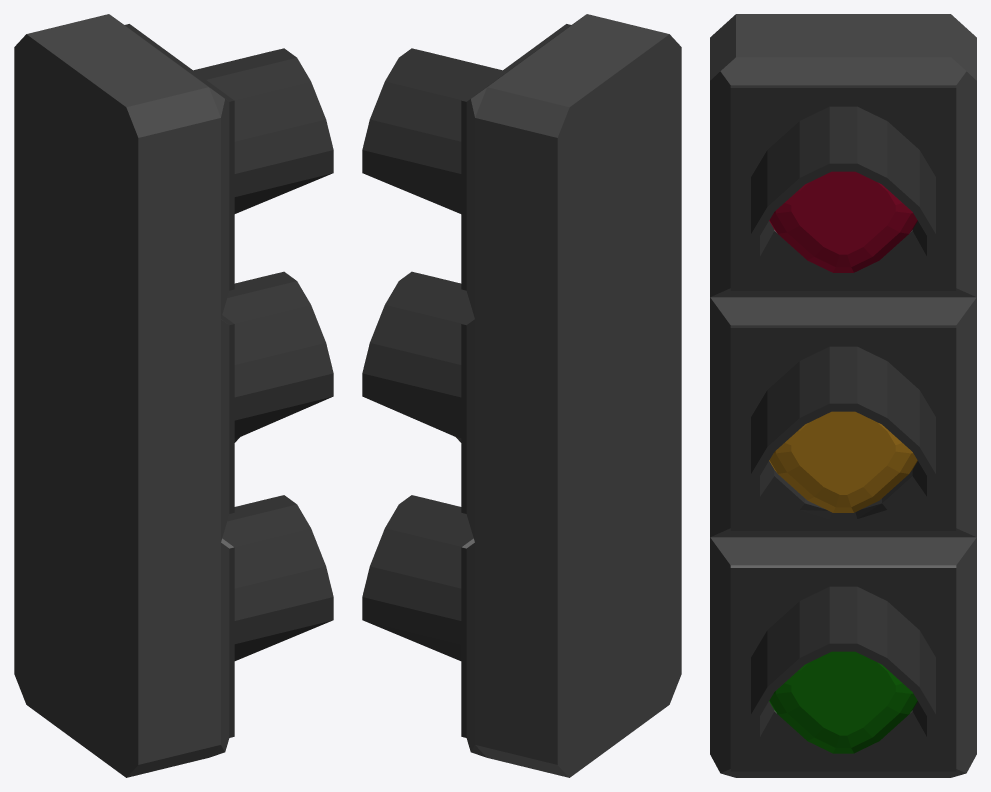
The model's file is traffic lights.fbx.
3 renders of one model, left to right at view 1: azimuth 30°, elevation 25°; view 2: azimuth 150°, elevation 25°; view 3: azimuth 270°, elevation 25°, orthographic. The views are drawn at different scales.
Visible parts, largest first — view 1: pCube1; view 2: pCube1; view 3: pCube1.
Part boxes in pixels (bbox=[...]): pCube1: bbox=[14, 14, 333, 777]; pCube1: bbox=[362, 14, 681, 777]; pCube1: bbox=[710, 14, 976, 777].
Size of the model in its own units: 9.08 by 27.15 by 9.11.
